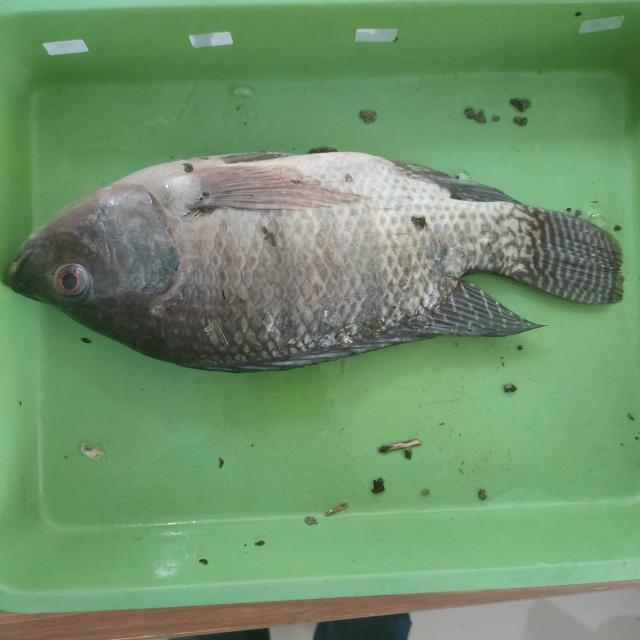Fresh: (99, 167, 417, 367), (48, 254, 102, 310)
